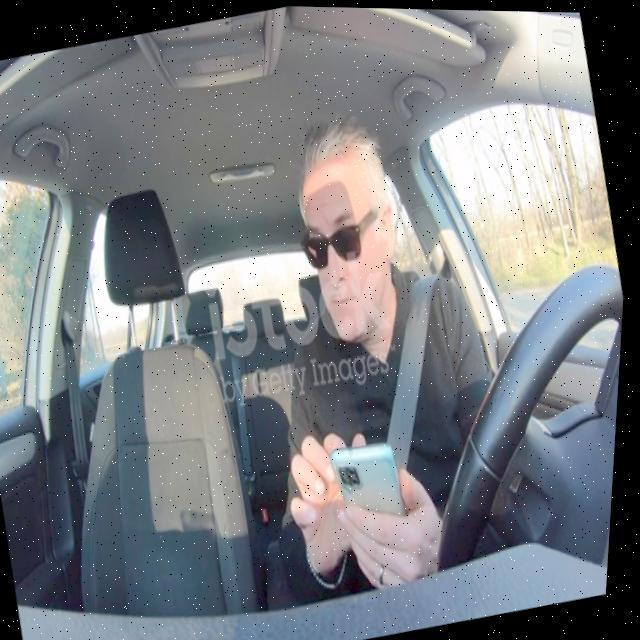PhoneCall: (328, 431, 431, 599)
